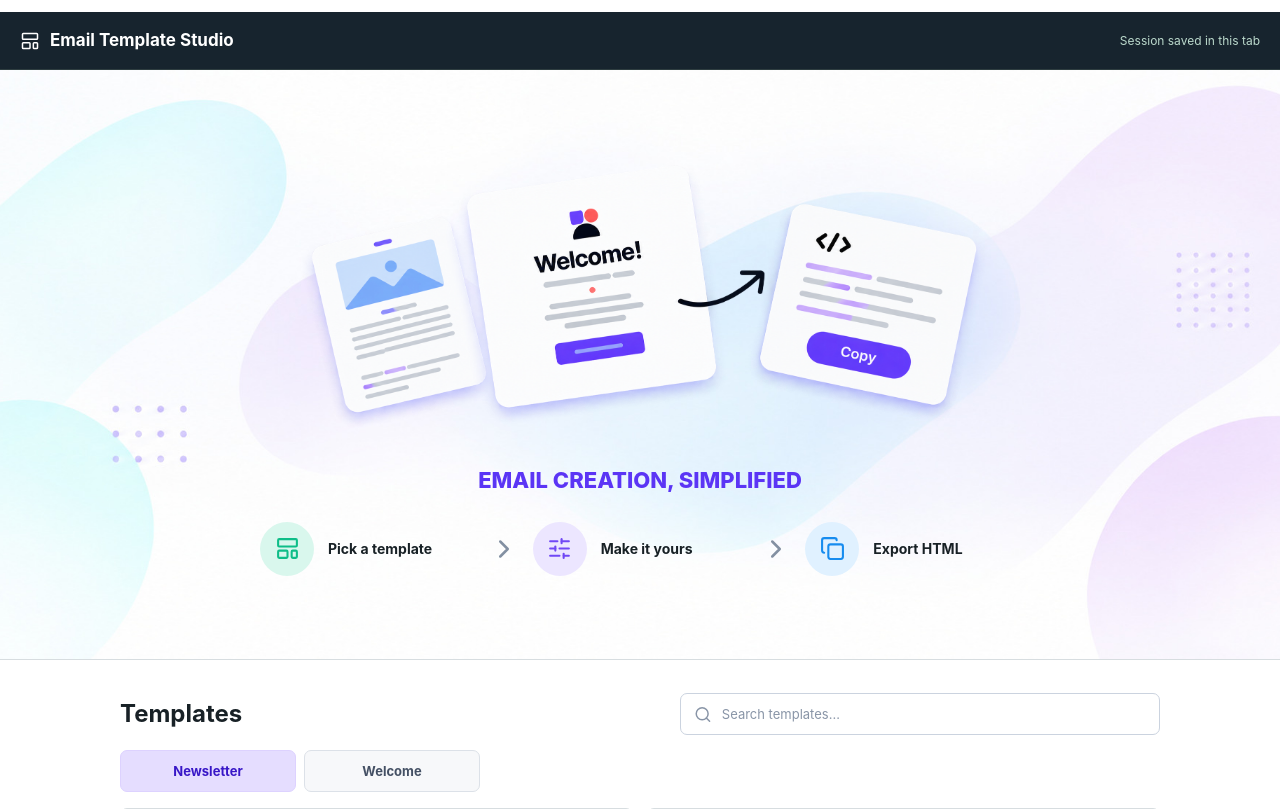
App workspace shell › filters templates in the active category
In the search field labelled "Search templates": {"x": 934, "y": 714} [722,706,1146,722], type "promotional"
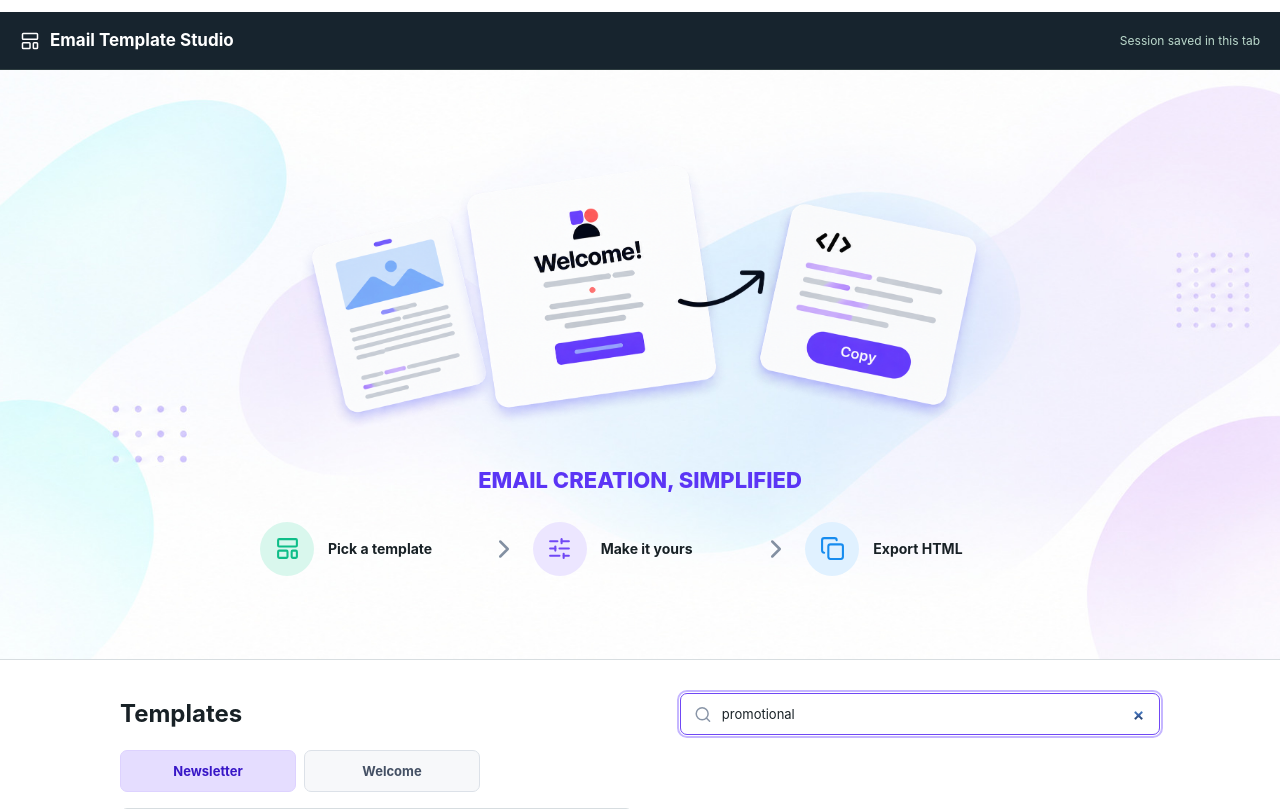
Replace the text in the search field named "Search templates" with "missing template": {"x": 934, "y": 714} [722,706,1146,722]
(page scrolled)
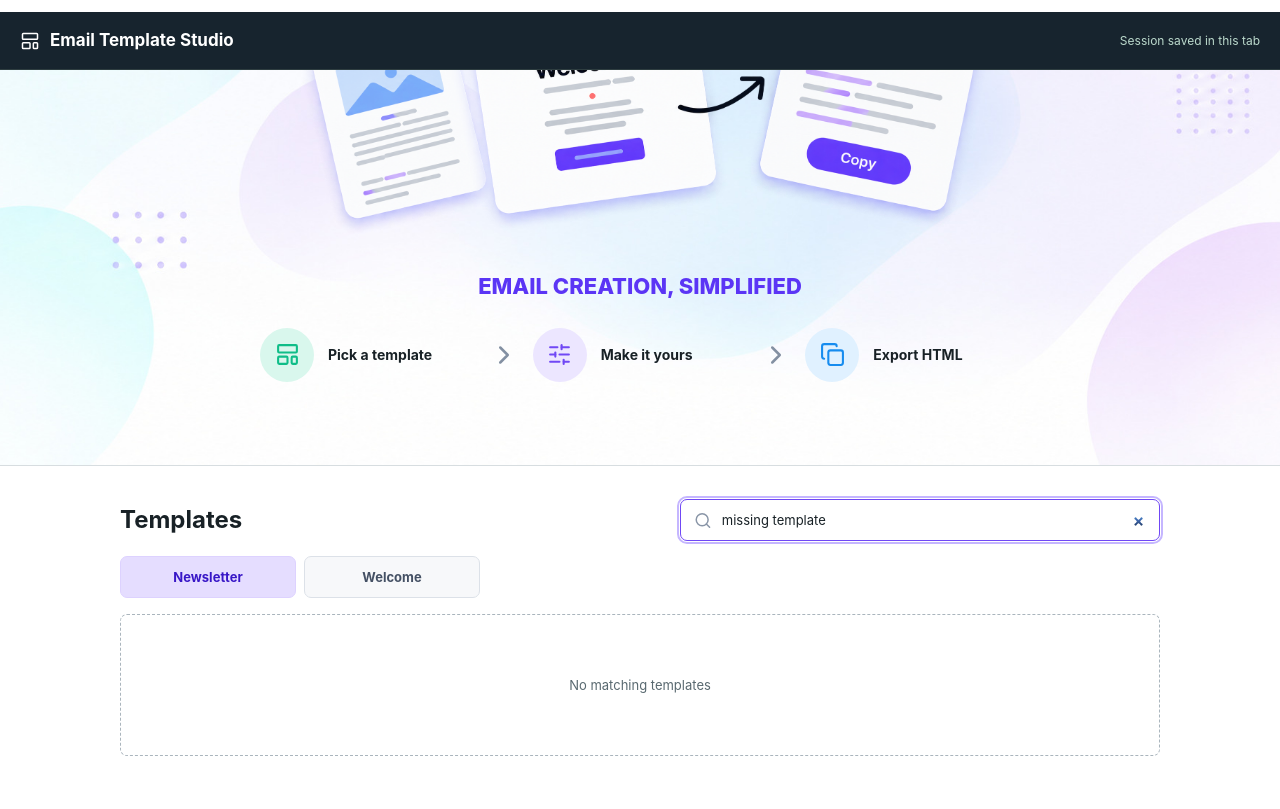
Now the message reads "No matching templates", box [569,677,711,693]
